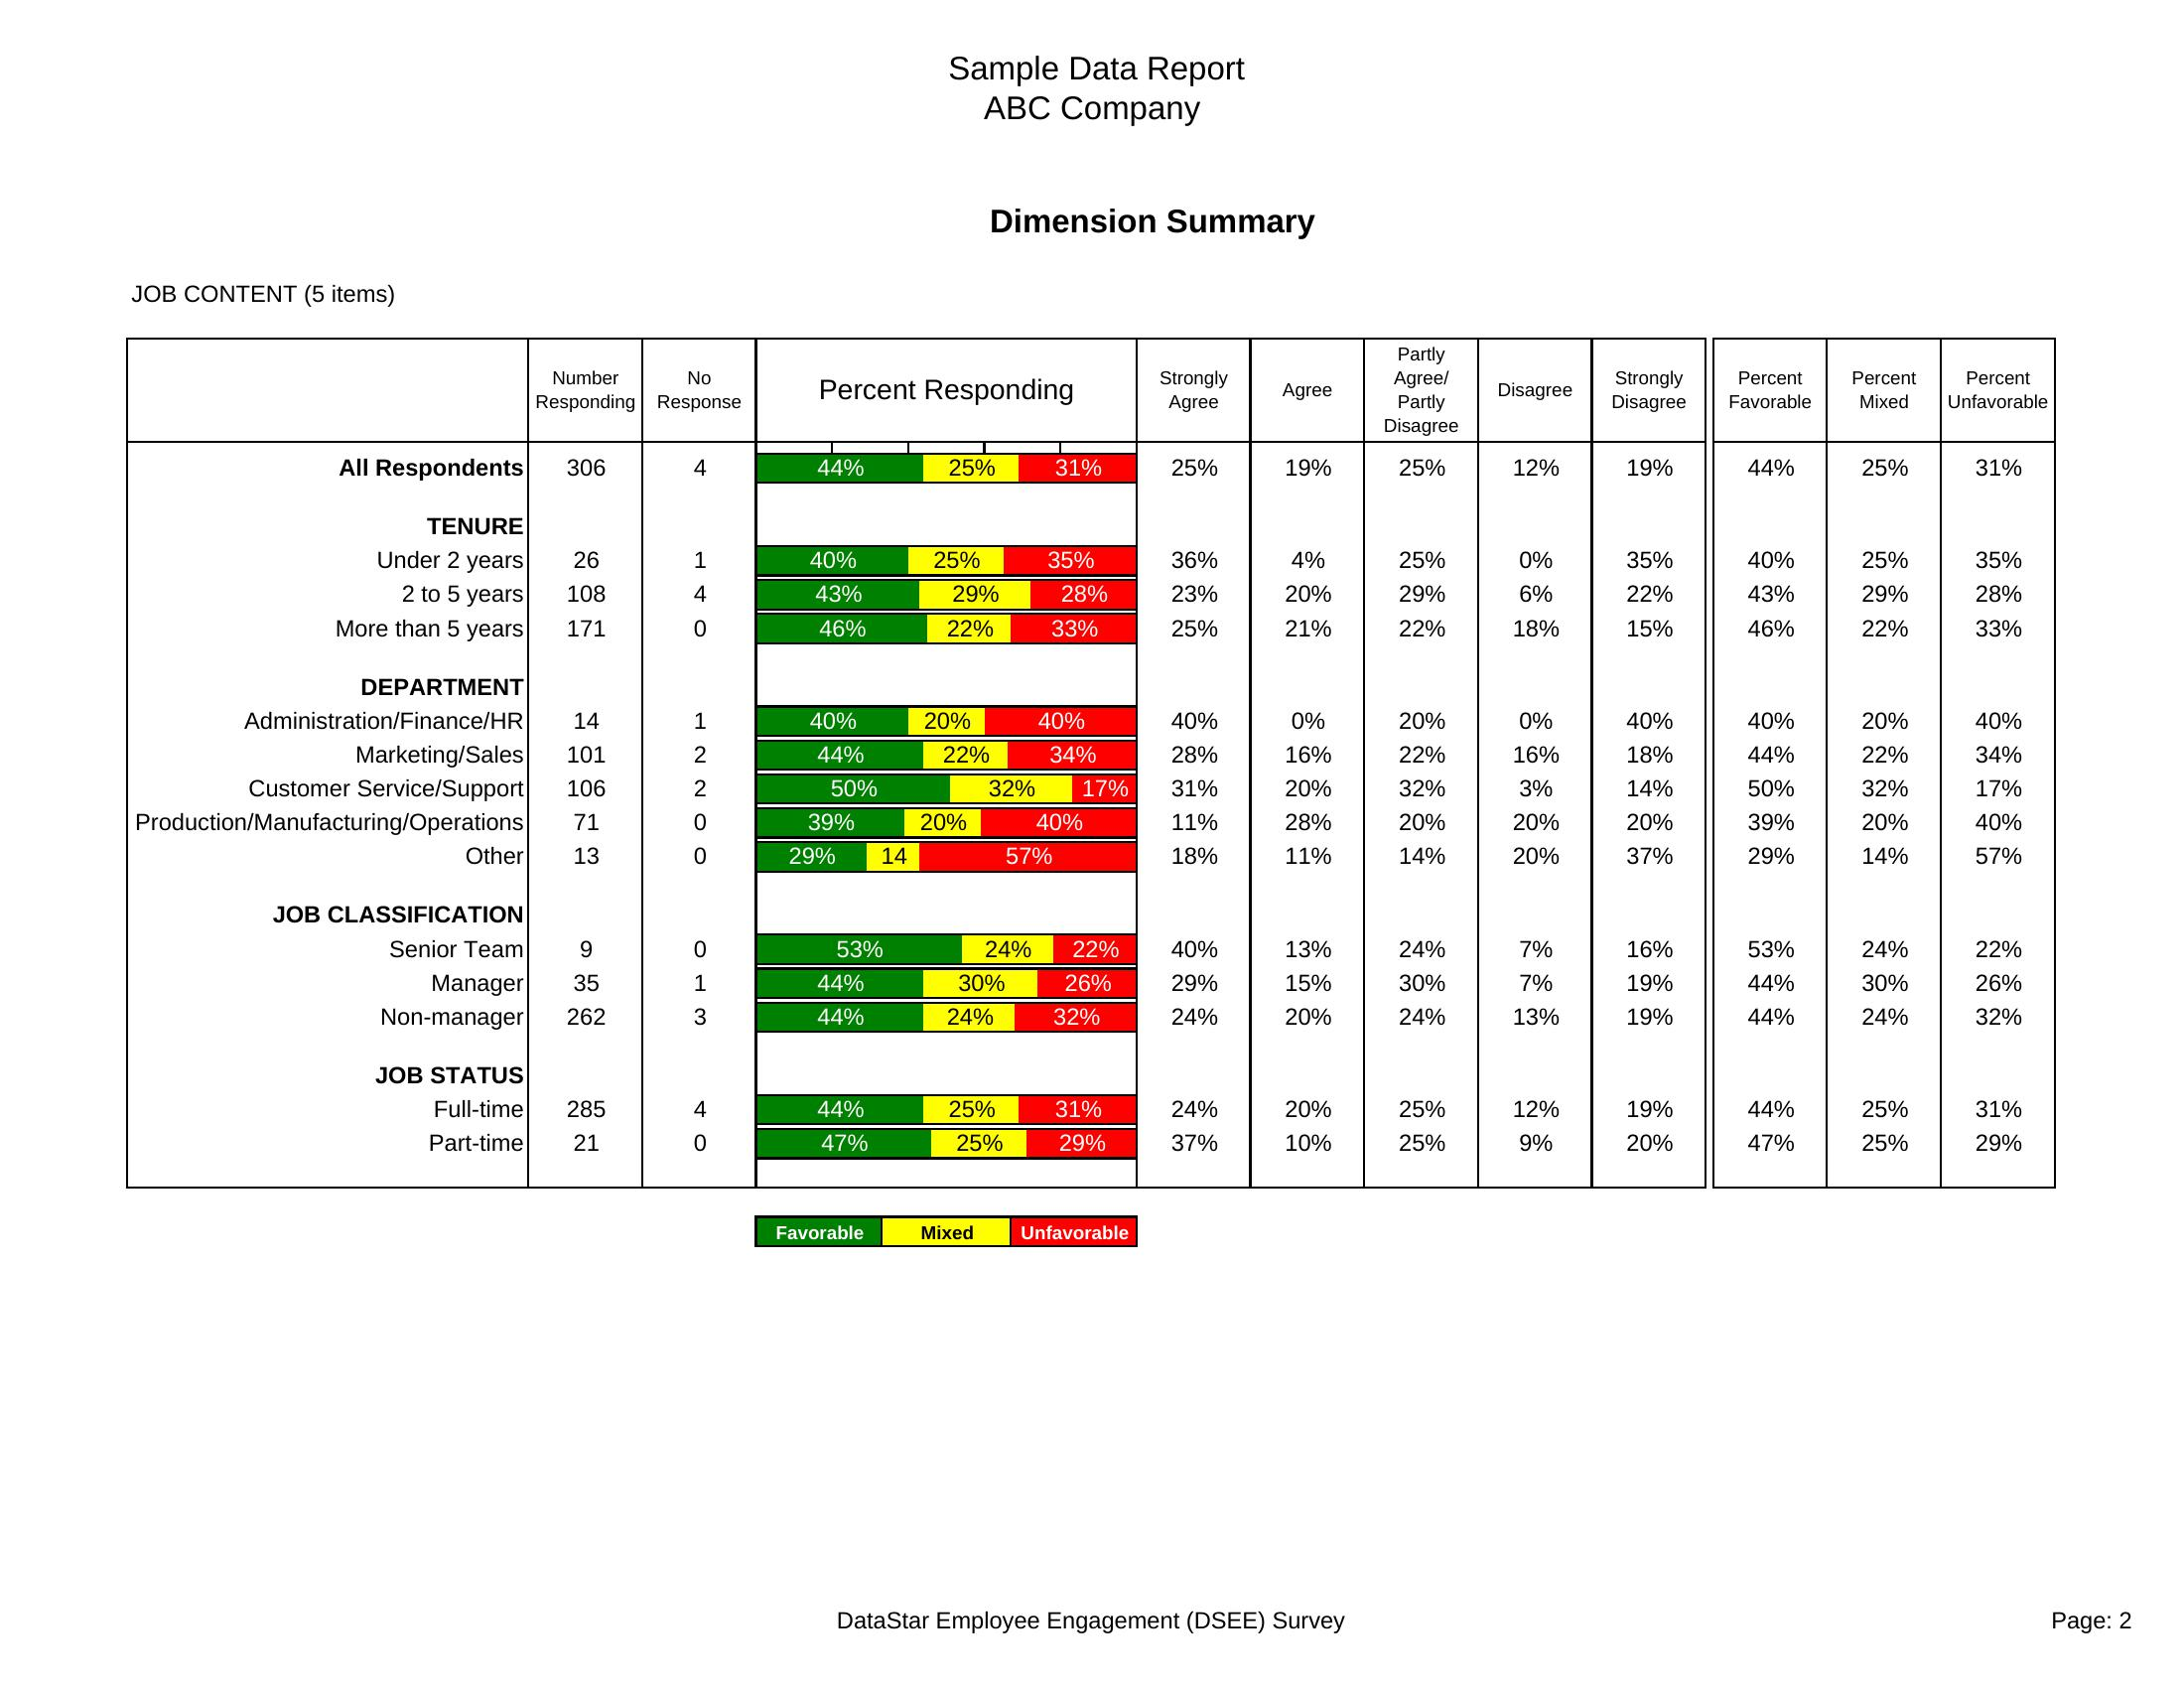table: (121, 330, 2067, 1259)
